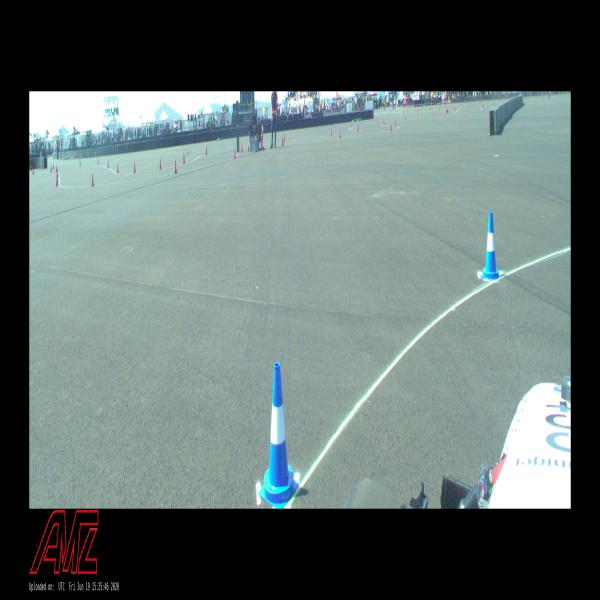blue_cone: (258, 363, 300, 508), (480, 212, 501, 278)
